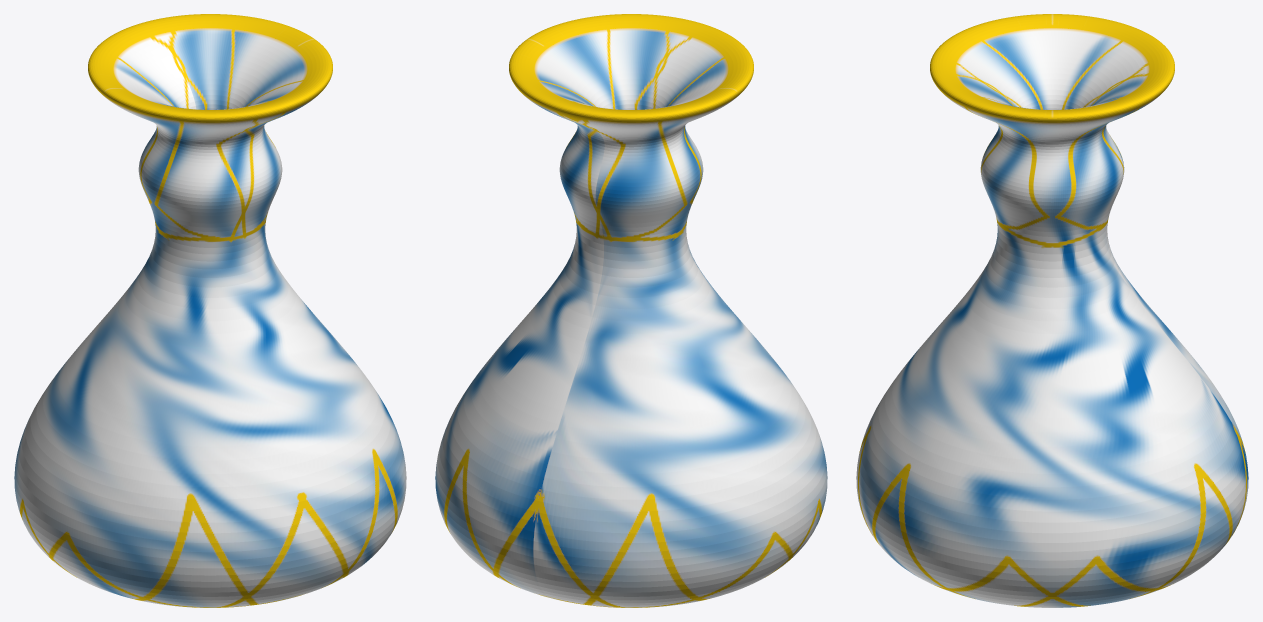
The model's file is vase.fbx.
3 renders of one model, left to right at view 1: azimuth 30°, elevation 25°; view 2: azimuth 150°, elevation 25°; view 3: azimuth 270°, elevation 25°, orthographic.
Visible parts, largest first — view 1: Cylinder; view 2: Cylinder; view 3: Cylinder.
Part boxes in pixels (x1,y1,x2,y2): Cylinder: (14, 14, 406, 607); Cylinder: (435, 14, 827, 607); Cylinder: (856, 14, 1248, 607).
Size of the model in its own units: 208 by 292 by 208.
